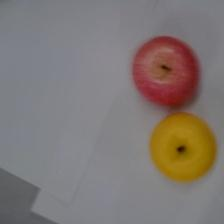red: (131, 34, 200, 106)
yellow: (149, 112, 217, 182)
